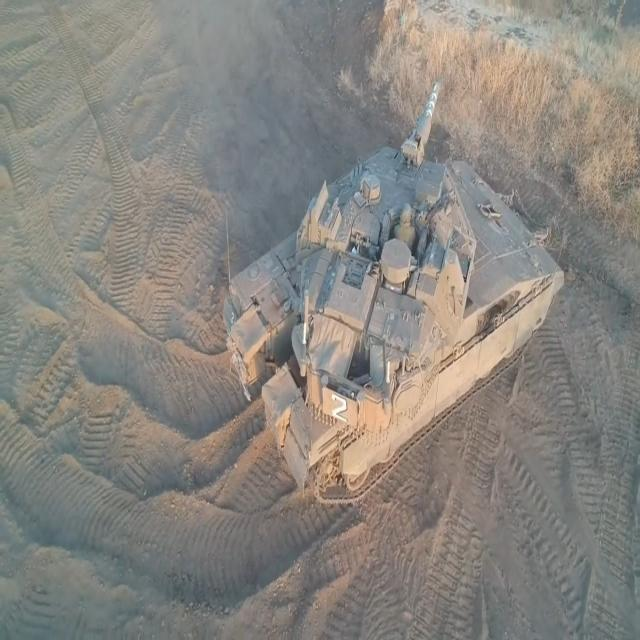tank: (209, 61, 575, 528)
